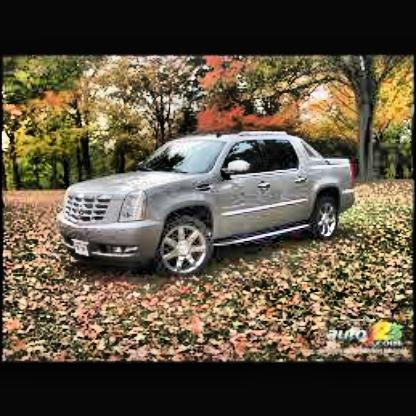Cadillac Escalade EXT Crew Cab 2007: (28, 116, 381, 303)
